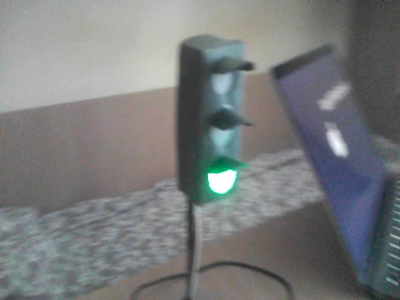trafficlight_green: (197, 47, 245, 200)
